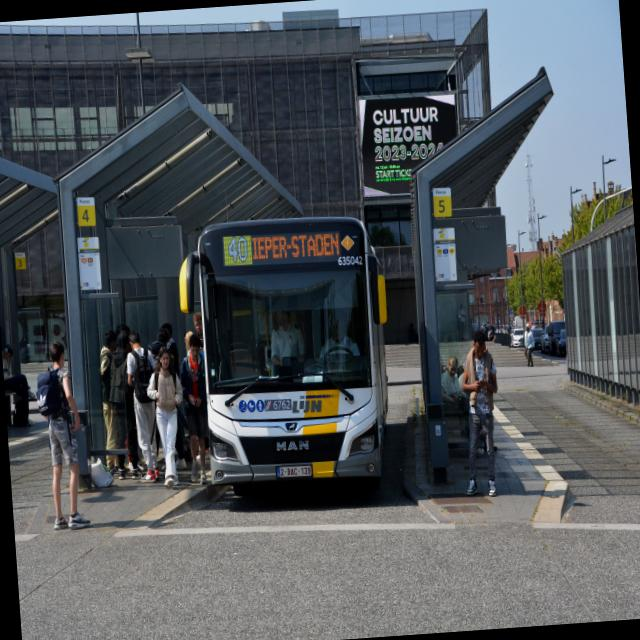bus-number: (222, 234, 252, 265)
